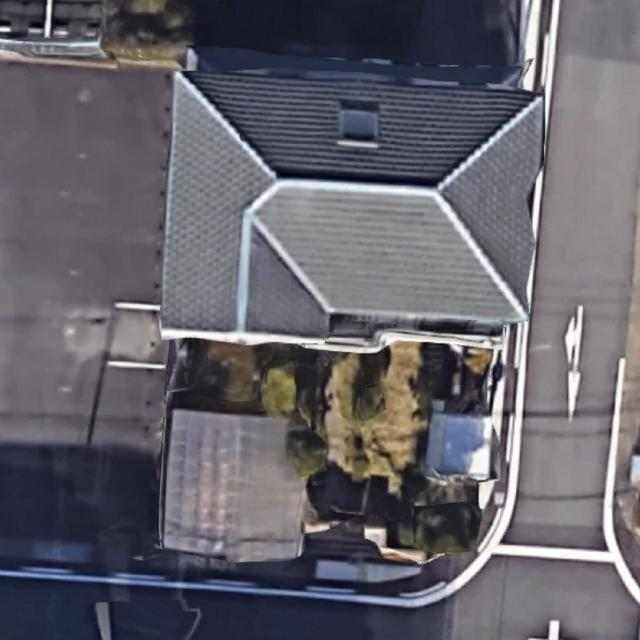Batiment: (161, 70, 542, 349), (164, 409, 305, 562)
